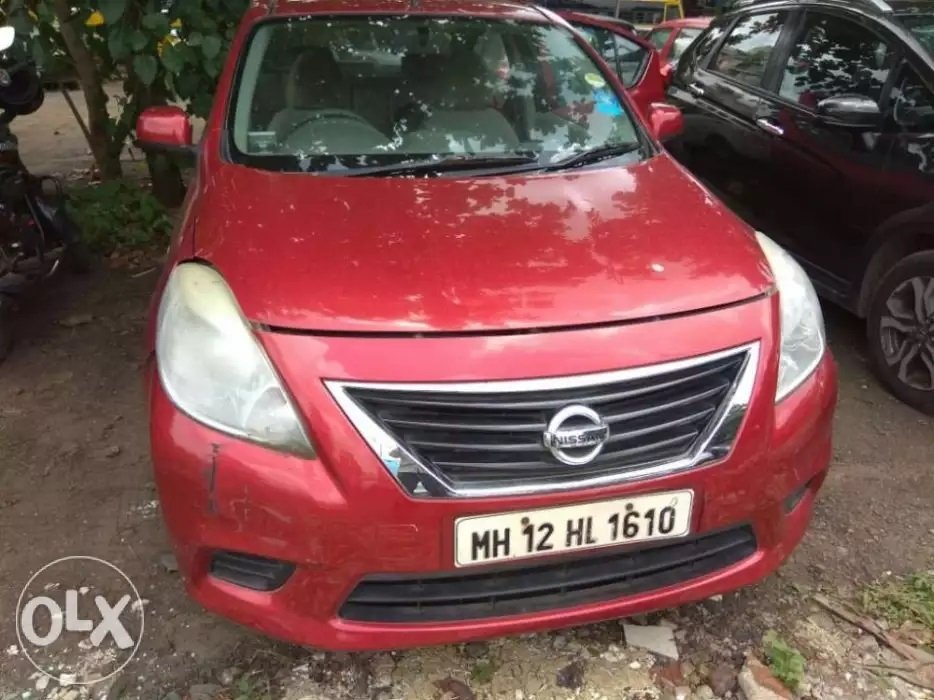licenseplate: (440, 483, 695, 560)
